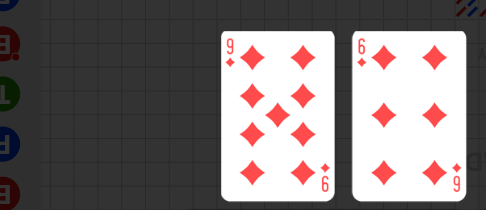9D: (224, 36, 236, 69), (319, 161, 331, 193)
